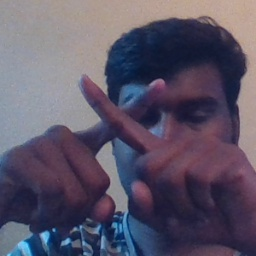X: (46, 65, 187, 199)
